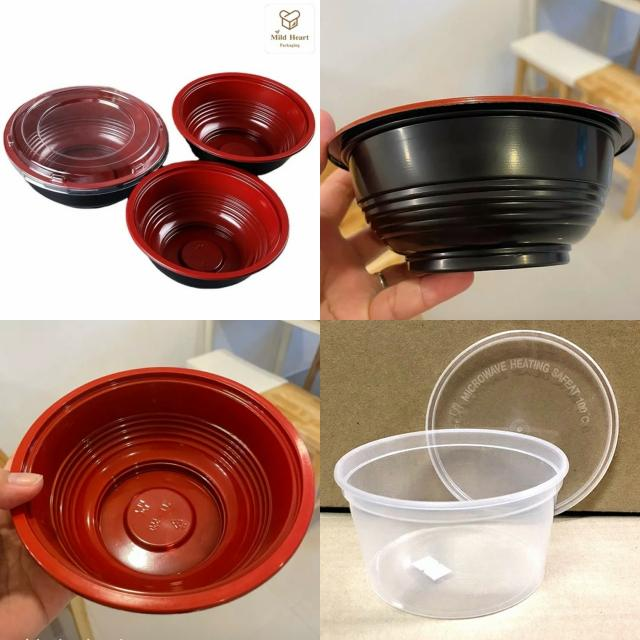Single-Use-Plastic: (12, 368, 314, 614), (329, 96, 632, 271), (335, 429, 569, 619), (426, 330, 619, 513), (126, 161, 289, 288), (4, 86, 169, 208), (172, 74, 315, 175)
